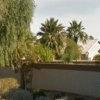Palm tree: (37, 12, 92, 62)
